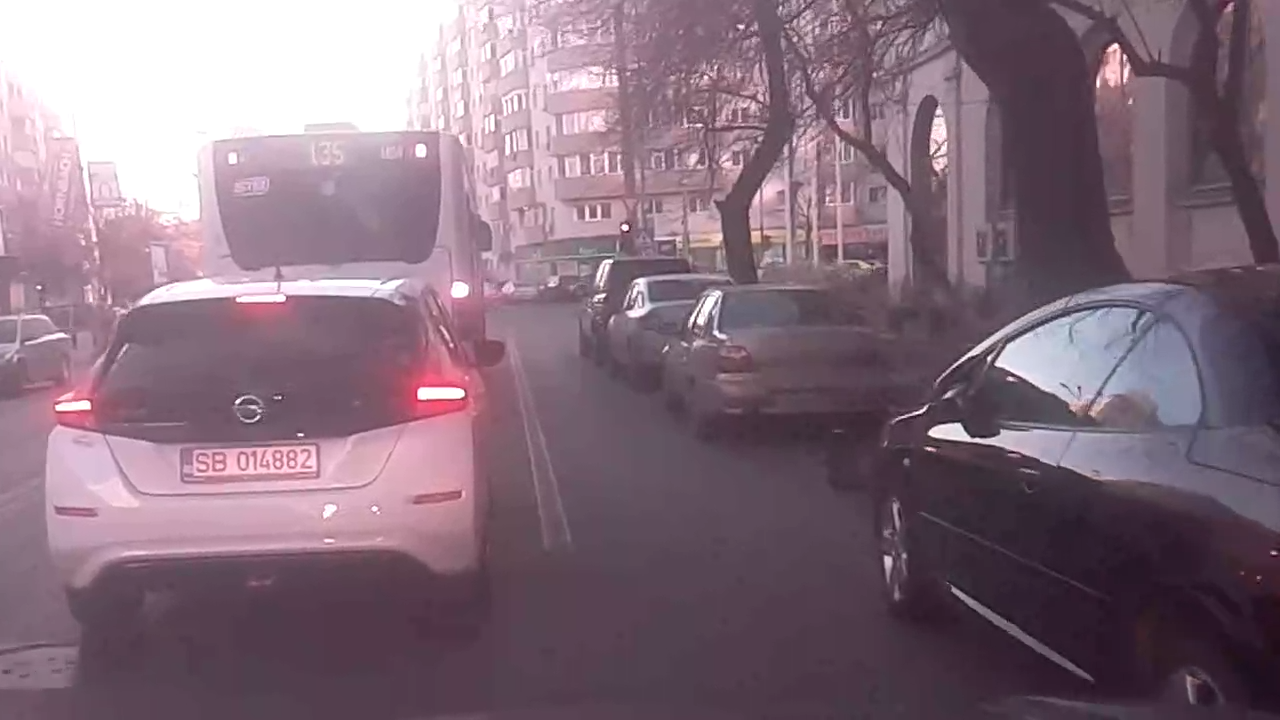license-plate: (175, 437, 324, 482)
